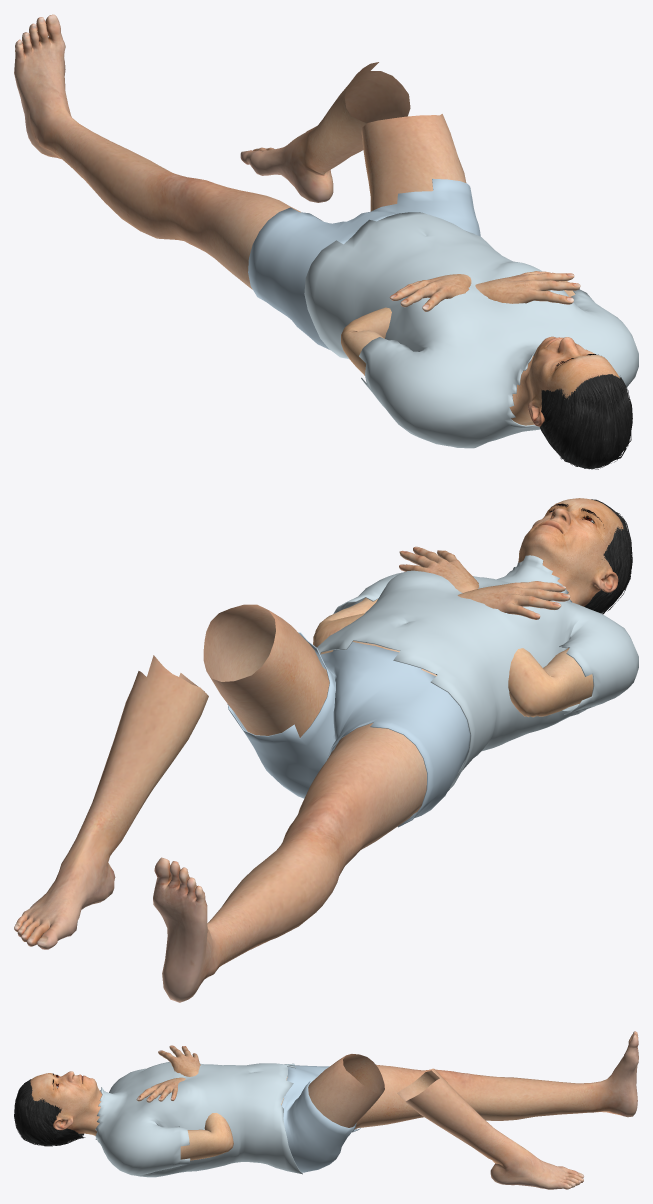
File: SurgicalPatient_Body.fbx
3 renders of one model, top to bottom at view 1: azimuth 30°, elevation 25°; view 2: azimuth 150°, elevation 25°; view 3: azimuth 270°, elevation 25°, orthographic. The views are drawn at different scales.
Visible parts, largest first — view 1: Gown, Body, RightLeg_Prepped, Brief, Hair; view 2: Body, Gown, RightLeg_Prepped, Brief, Hair; view 3: Body, Gown, RightLeg_Prepped, Brief, Hair.
Boxes of the visible parts, x1,y1,x2,y2 form: Gown: (304, 212, 638, 448); Body: (14, 14, 619, 426); RightLeg_Prepped: (301, 62, 463, 195); Brief: (248, 178, 480, 349); Hair: (540, 374, 632, 469); Body: (14, 498, 623, 1002); Gown: (317, 555, 638, 790); RightLeg_Prepped: (76, 604, 316, 855); Brief: (227, 632, 470, 827); Hair: (584, 499, 632, 614); Body: (30, 1031, 638, 1189); Gown: (95, 1062, 302, 1177); RightLeg_Prepped: (316, 1054, 515, 1161); Brief: (281, 1065, 360, 1172); Hair: (14, 1079, 85, 1146).
Bounding box in the file's own units: 0.5022 × 0.3813 × 1.74.
